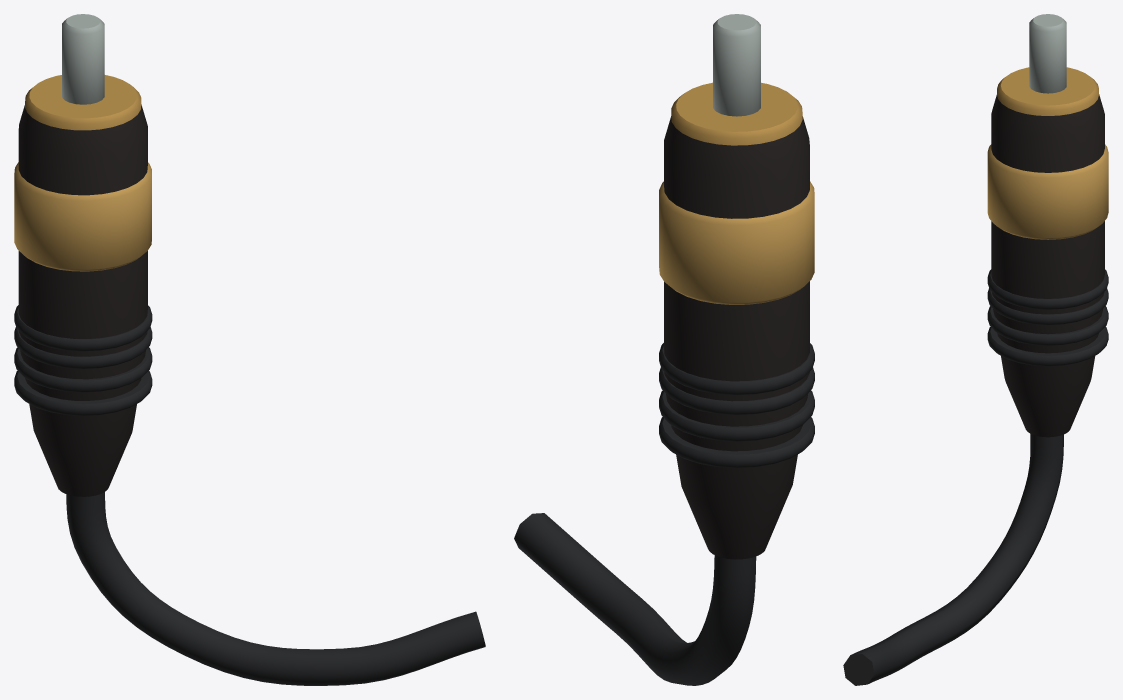
File: ServicePlug_Operations.fbx
3 views of the same model, side by side, from view 1: azimuth 30°, elevation 25°; view 2: azimuth 150°, elevation 25°; view 3: azimuth 270°, elevation 25° (orthographic). The views are drawn at different scales.
Parts seen in each view (by area): view 1: Cable grip, Coiled lead, Crew identification ring, Brass collar, Contact tip, Grip rib, Grip rib.001, Grip rib.003, Grip rib.002; view 2: Cable grip, Coiled lead, Crew identification ring, Brass collar, Contact tip, Grip rib, Grip rib.001, Grip rib.003, Grip rib.002; view 3: Cable grip, Coiled lead, Crew identification ring, Brass collar, Contact tip, Grip rib, Grip rib.001, Grip rib.003, Grip rib.002.
Part boxes in pixels (x1,y1,x2,y2): Cable grip: (18,104,147,496); Coiled lead: (66,492,485,685); Crew identification ring: (14,162,151,271); Brass collar: (25,75,141,130); Contact tip: (62,14,104,104); Grip rib: (14,370,152,415); Grip rib.001: (14,347,152,392); Grip rib.003: (14,305,152,351); Grip rib.002: (14,327,152,368); Cable grip: (664,116,809,559); Coiled lead: (514,513,756,685); Crew identification ring: (659,181,814,304); Brass collar: (671,82,802,145); Contact tip: (713,14,760,116); Grip rib: (659,417,814,467); Grip rib.001: (659,390,814,441); Grip rib.003: (659,343,814,395); Grip rib.002: (659,367,814,414); Cable grip: (991,94,1104,437); Coiled lead: (843,434,1063,685); Crew identification ring: (987,144,1108,239); Brass collar: (997,67,1098,115); Contact tip: (1029,14,1066,93); Grip rib: (987,326,1108,366); Grip rib.001: (987,306,1108,345); Grip rib.003: (987,269,1108,309); Grip rib.002: (987,288,1108,325).
Size of the model in its own units: 0.1906 by 0.3313 by 0.1402.
